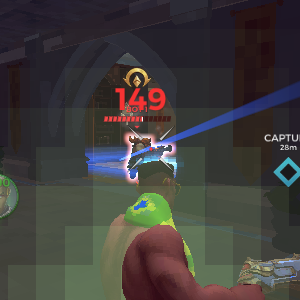model: (124, 127, 164, 175)
